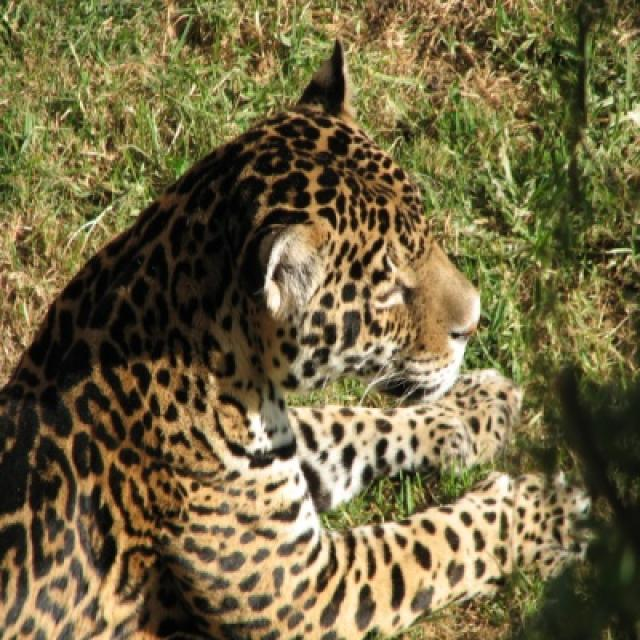Jaguar: (0, 42, 566, 638)
